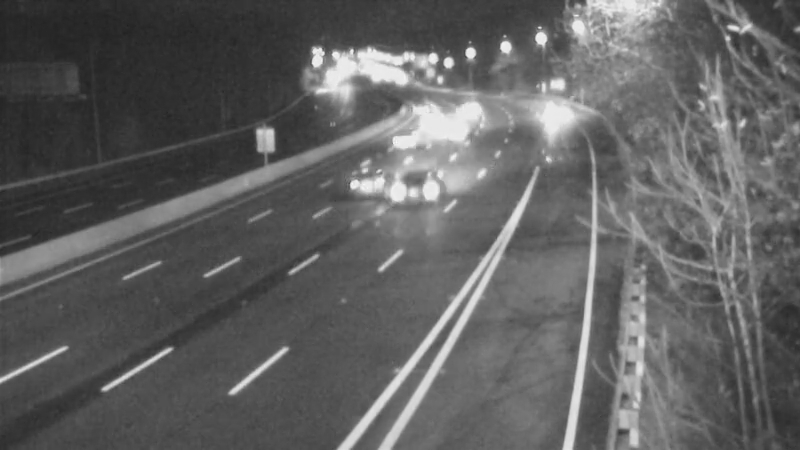vehicle: (374, 151, 454, 231), (319, 136, 399, 216), (446, 84, 496, 134), (397, 86, 447, 136), (526, 90, 576, 140), (428, 101, 478, 151), (377, 113, 427, 163)
